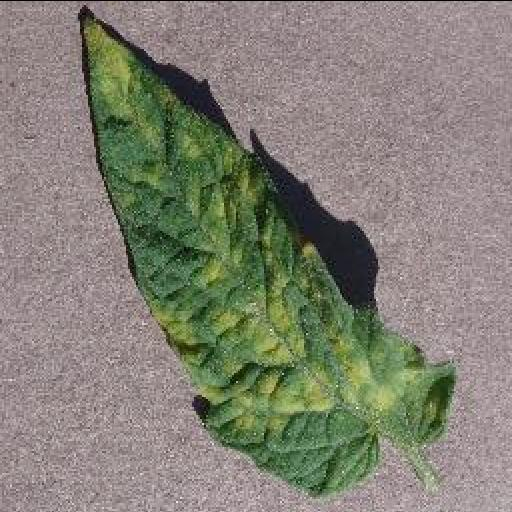disease_tomato: (80, 18, 450, 492)
